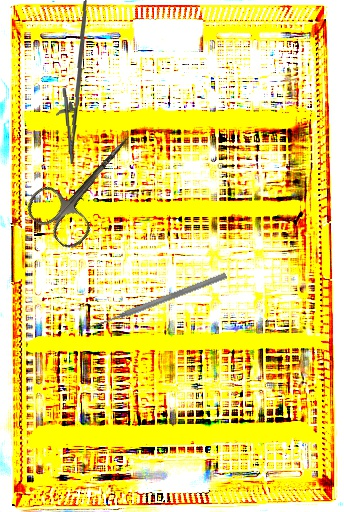Iris Scissors: (20, 115, 156, 254)
Needle Holder: (52, 0, 93, 165)
Pusher: (87, 270, 228, 333)
